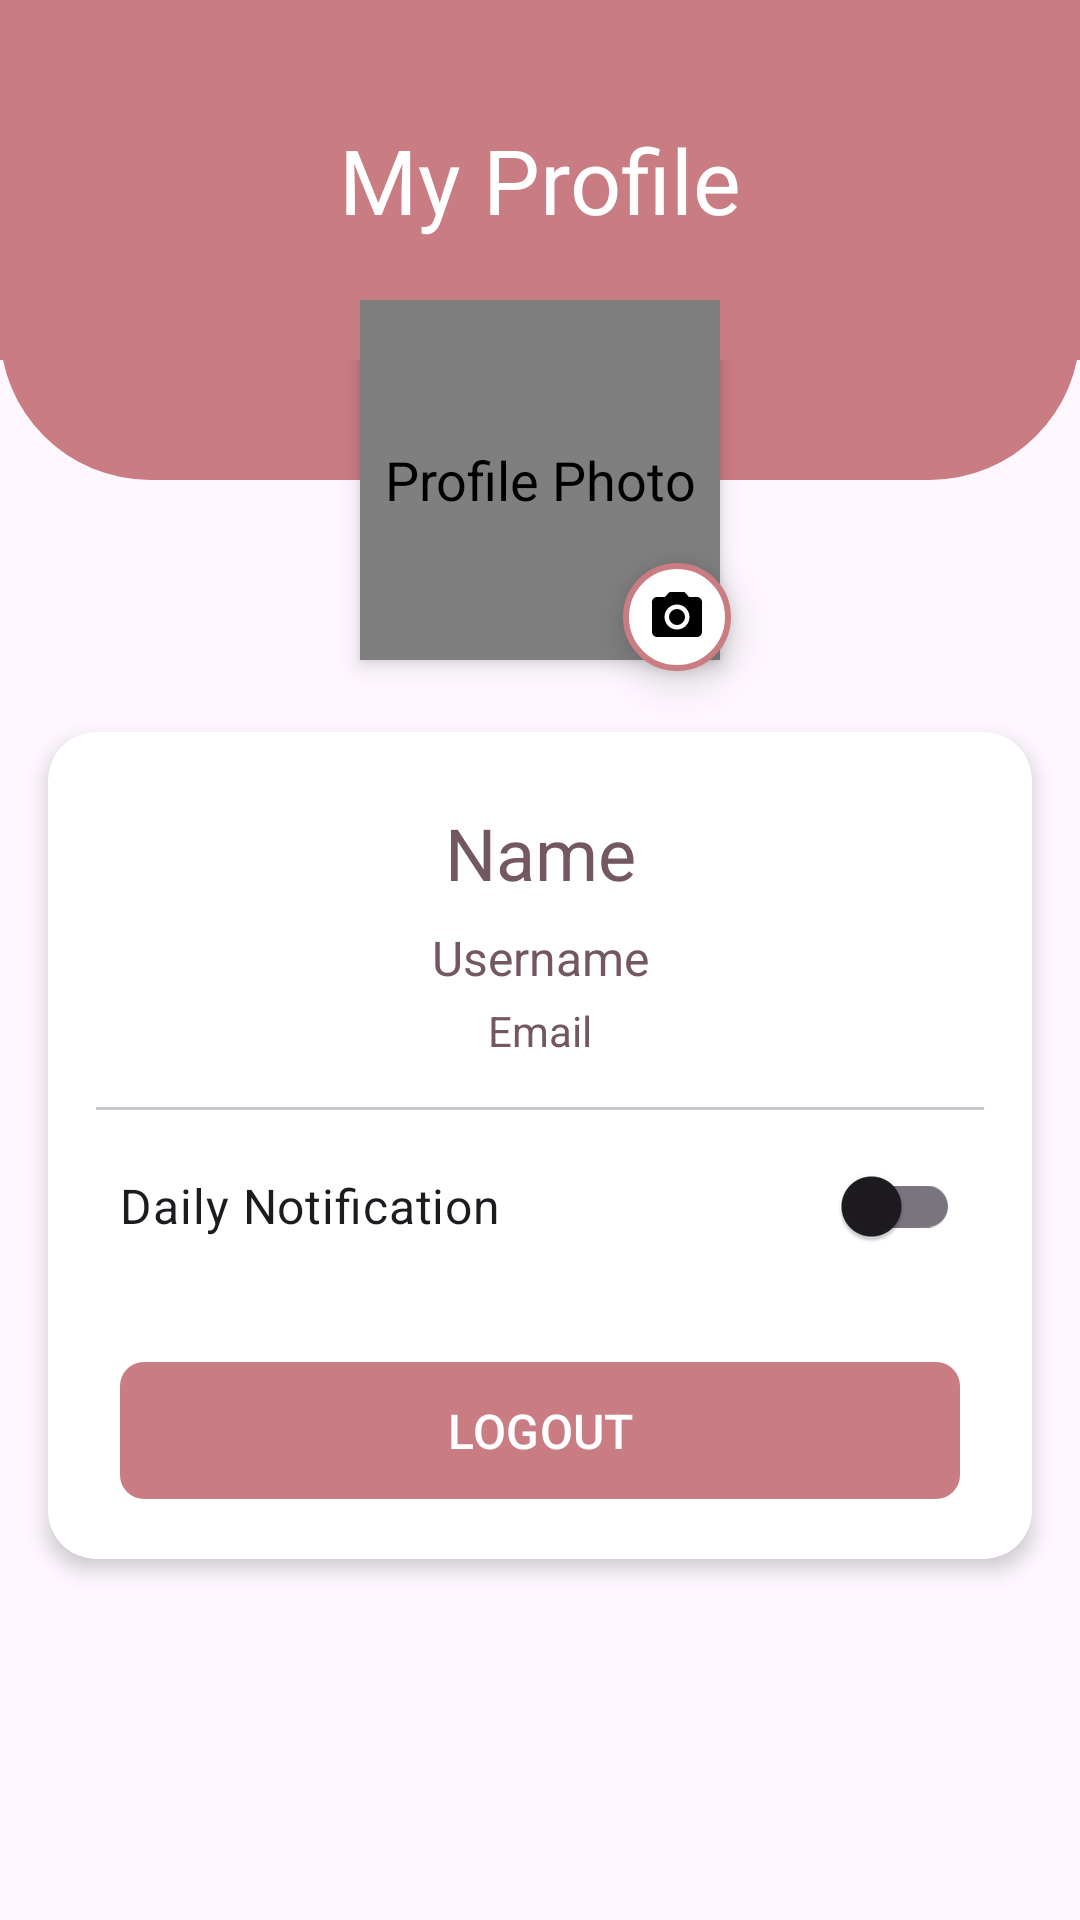

Where to tap for icons on this 1080 × 1920 app screen, as (x=x, y=y):
Change Profile Picture: (x=677, y=617)
